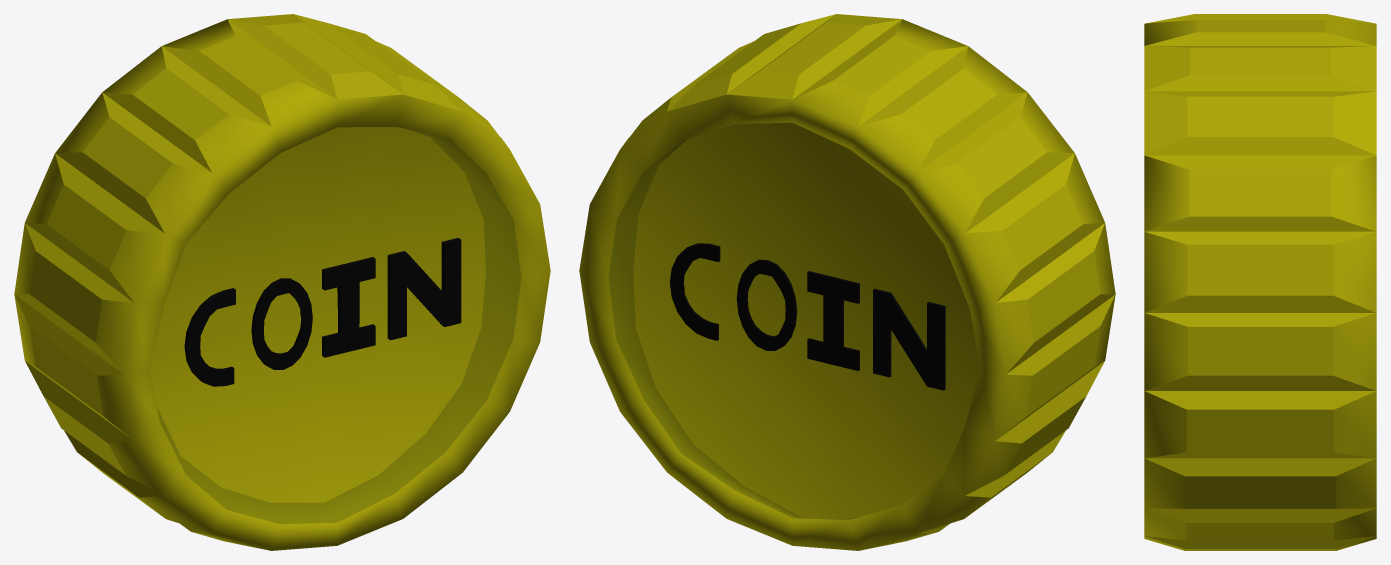
File: bigger coin.fbx
3 renders of one model, left to right at view 1: azimuth 30°, elevation 25°; view 2: azimuth 150°, elevation 25°; view 3: azimuth 270°, elevation 25°, orthographic. The views are drawn at different scales.
Visible parts, largest first — view 1: coin2; view 2: coin2; view 3: coin2.
Boxes of the visible parts, box(x1,y1,x2,y2) form: coin2: box(14, 14, 550, 550); coin2: box(579, 14, 1115, 550); coin2: box(1144, 14, 1376, 550).
Size of the model in its own units: 15.82 by 15.72 by 6.82.
